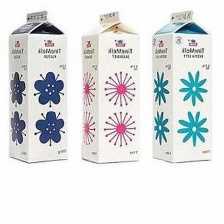carton: (77, 6, 146, 165), (4, 9, 73, 166), (150, 7, 216, 164)
